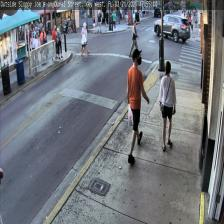person: (126, 48, 149, 163), (159, 61, 176, 151)
